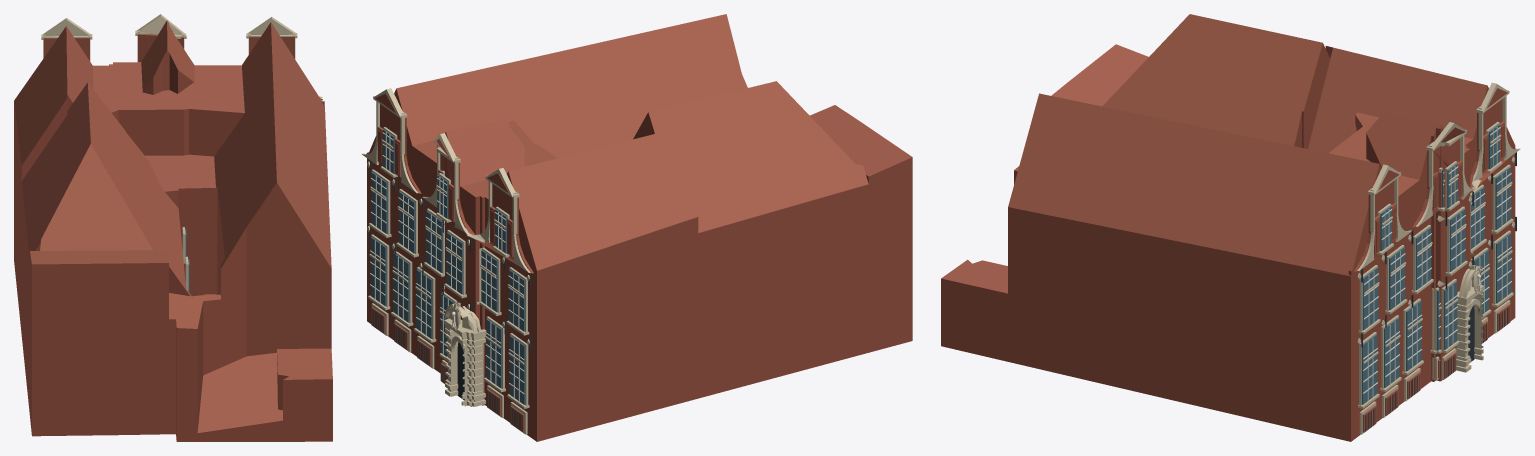
The model's file is wine-guildhall.glb.
The picture shows the model from 3 angles, left to right: view 1: azimuth 30°, elevation 25°; view 2: azimuth 150°, elevation 25°; view 3: azimuth 270°, elevation 25°; orthographic projection. The views are drawn at different scales.
Parts seen in each view (by area): view 1: wine-guildhall; view 2: wine-guildhall; view 3: wine-guildhall.
Part boxes in pixels (<box>): wine-guildhall: <box>14,14,332,441</box>; wine-guildhall: <box>361,14,912,441</box>; wine-guildhall: <box>941,14,1520,441</box>.
Size of the model in its own units: 20.74 by 12.15 by 23.9.
